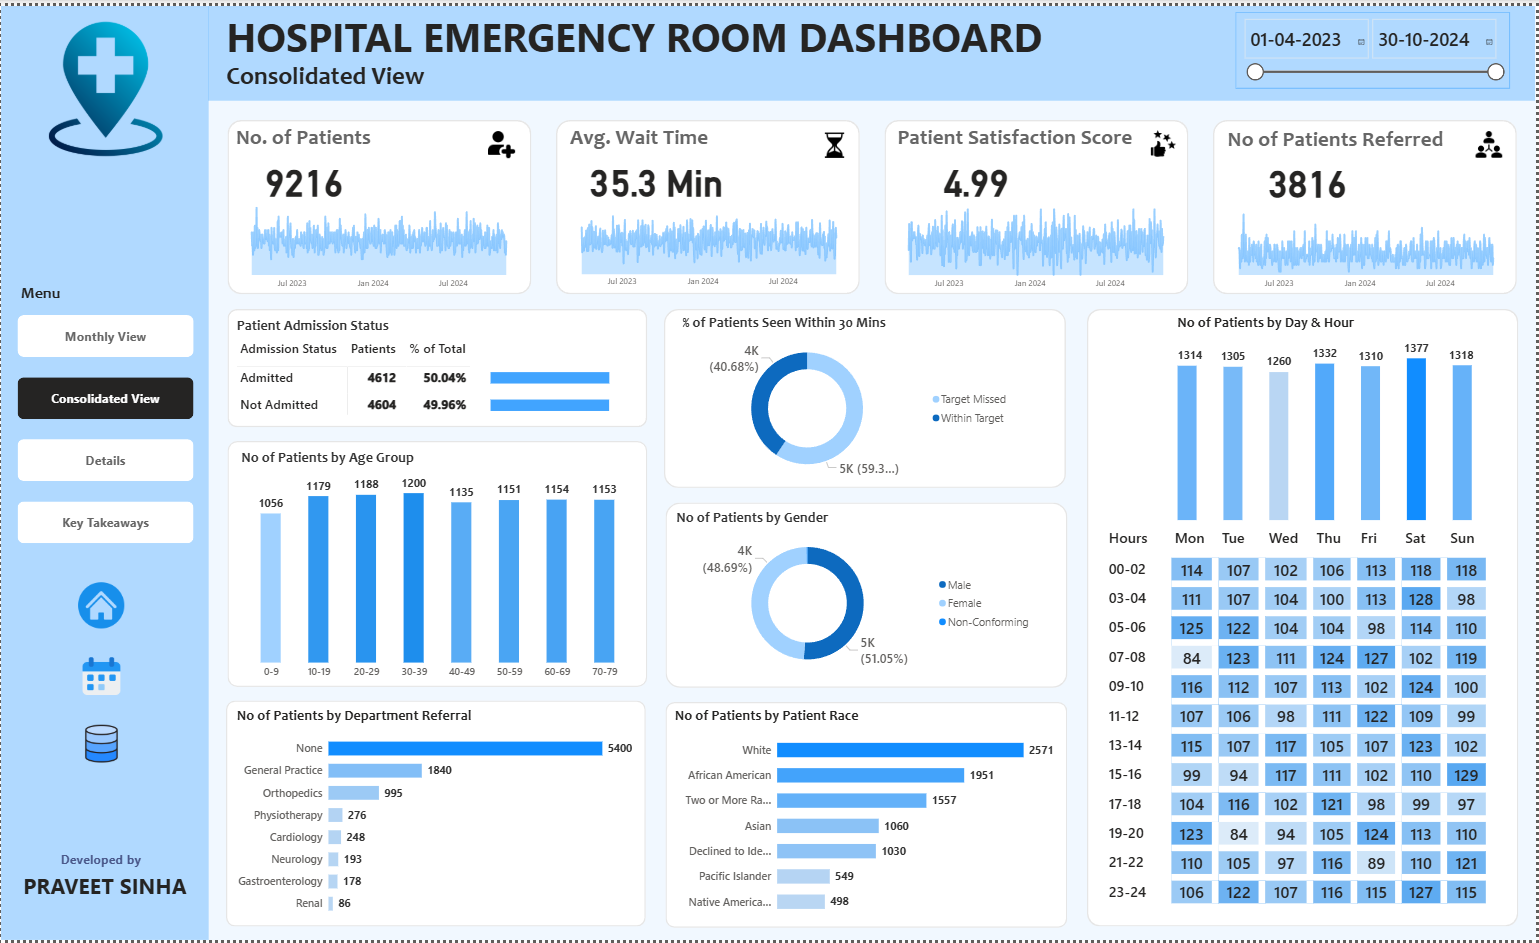

Layout of this report page (visuals, bound fields, positions):
{"tool":"powerbi","page":{"name":"Consolidated View","canvas":[2300,1400],"ordinal":1},"visuals":[{"type":"shape","box":[338.5,171.3,455.5,261.2],"z":0},{"type":"shape","box":[1324.7,171.3,455.5,261.2],"z":1000},{"type":"shape","box":[0,0,311.3,1399.9],"z":2000},{"type":"shape","box":[831.6,171.3,455.5,261.2],"z":3000},{"type":"card","fields":{"Values":["Hospital ER_Hospital ER.No of Patients"]},"box":[374,225.7,160.9,66.9],"z":4000},{"type":"card","fields":{"Values":["Hospital ER_Hospital ER.Avg Wait Time"]},"box":[869.2,225.7,223.6,66.9],"z":5000},{"type":"card","fields":{"Values":["Avg(Hospital ER_Hospital ER.Patient Satisfaction Score)"]},"box":[1381.4,225.6,160.9,66.9],"z":6000},{"type":"shape","box":[1817.8,171.3,455.5,261.2],"z":7000},{"type":"card","fields":{"Values":["Hospital ER_Hospital ER.Measure"]},"box":[1876.7,227.6,160.9,66.9],"z":8000},{"type":"shape","box":[311.3,0,1989.1,142.1],"z":9000},{"type":"textbox","box":[339.2,171.3,227.8,56.5],"z":10000},{"type":"textbox","box":[841.3,171.3,231.1,56.5],"z":11000},{"type":"textbox","box":[1331.2,172,377.5,55.8],"z":12000},{"type":"textbox","box":[1828.2,173.4,344.8,56.4],"z":13000},{"type":"areaChart","fields":{"Y":["Hospital ER_Hospital ER.No of Patients"],"Category":["Calendar Table.Date.Variation.Date Hierarchy.Year","Calendar Table.Date.Variation.Date Hierarchy.Quarter","Calendar Table.Date.Variation.Date Hierarchy.Month","Calendar Table.Date.Variation.Date Hierarchy.Day"]},"box":[348.4,288.1,435.5,145.2],"z":14000},{"type":"areaChart","fields":{"Category":["Calendar Table.Date.Variation.Date Hierarchy.Year","Calendar Table.Date.Variation.Date Hierarchy.Quarter","Calendar Table.Date.Variation.Date Hierarchy.Month","Calendar Table.Date.Variation.Date Hierarchy.Day"],"Y":["Avg(Hospital ER_Hospital ER.Patient Waittime)"]},"box":[842.1,285.9,435.5,145.2],"z":15000},{"type":"areaChart","fields":{"Category":["Calendar Table.Date.Variation.Date Hierarchy.Year","Calendar Table.Date.Variation.Date Hierarchy.Quarter","Calendar Table.Date.Variation.Date Hierarchy.Month","Calendar Table.Date.Variation.Date Hierarchy.Day"],"Y":["Avg(Hospital ER_Hospital ER.Patient Satisfaction Score)"]},"box":[1333.4,290.4,435.5,142.9],"z":16000},{"type":"areaChart","fields":{"Category":["Calendar Table.Date.Variation.Date Hierarchy.Year","Calendar Table.Date.Variation.Date Hierarchy.Quarter","Calendar Table.Date.Variation.Date Hierarchy.Month","Calendar Table.Date.Variation.Date Hierarchy.Day"],"Y":["Hospital ER_Hospital ER.Measure"]},"box":[1827.1,288.1,435.5,145.2],"z":17000},{"type":"textbox","box":[332.2,0,1294.5,90],"z":18000},{"type":"image","box":[46.9,17.9,218.9,212.2],"z":19000},{"type":"image","box":[1222.3,183.9,52.2,48.1],"z":20000},{"type":"image","box":[724.8,183.1,52.8,51.2],"z":21000},{"type":"image","box":[2198,181.8,62.7,50],"z":22000},{"type":"image","box":[1713.3,179.7,58.5,52.2],"z":23000},{"type":"shape","box":[338.9,455,629.1,177.3],"z":24000},{"type":"shape","box":[994.7,455,602.5,268.3],"z":25000},{"type":"shape","box":[1626.9,455,646.4,925.6],"z":26000},{"type":"shape","box":[996.2,743.7,602.5,277.7],"z":27000},{"type":"donutChart","title":"% of Patients Seen Within 30 Mins","fields":{"Y":["Hospital ER_Hospital ER.No of Patients"],"Category":["Hospital ER_Hospital ER.Waittime Status"]},"box":[1016.6,461,504.4,257.6],"z":28000},{"type":"donutChart","title":"No of Patients by Gender","fields":{"Y":["Hospital ER_Hospital ER.No of Patients"],"Category":["Hospital ER_Hospital ER.Full Gender"]},"box":[1007.2,753.1,547.5,257.3],"z":29000},{"type":"shape","box":[338.9,652.7,629.1,368.7],"z":30000},{"type":"pivotTable","title":"Patient Admission Status","fields":{"Rows":["Hospital ER_Hospital ER.Admission Status"],"Values":["Hospital ER_Hospital ER.No of Patients1","Hospital ER_Hospital ER.No of Patients"]},"box":[347.9,465.5,610,158.3],"z":31000},{"type":"barChart","fields":{"Category":["Hospital ER_Hospital ER.Admission Status"],"Y":["Hospital ER_Hospital ER.No of Patients"]},"box":[729.5,514.6,241.6,120.8],"z":32000},{"type":"clusteredColumnChart","fields":{"Category":["Hospital ER_Hospital ER.Age Group"],"Y":["Hospital ER_Hospital ER.No of Patients"]},"box":[354.6,662.7,599.3,354.6],"z":33000},{"type":"shape","box":[337.3,1041.7,629.1,338.9],"z":34000},{"type":"clusteredBarChart","fields":{"Category":["Hospital ER_Hospital ER.Department Referral"],"Y":["Hospital ER_Hospital ER.No of Patients"]},"box":[348.3,1049.6,602.5,324.8],"z":35000},{"type":"shape","box":[996.5,1043,602.2,338.4],"z":36000},{"type":"clusteredBarChart","fields":{"Y":["Hospital ER_Hospital ER.No of Patients"],"Category":["Hospital ER_Hospital ER.Patient Race"]},"box":[1005.8,1049.2,578.9,324.4],"z":37000},{"type":"pivotTable","fields":{"Columns":["Calendar Table.Day Name"],"Rows":["Hospital ER_Hospital ER.Waittime Interval"],"Values":["Hospital ER_Hospital ER.No of Patients"]},"box":[1649.3,776.3,599.2,583.1],"z":38000},{"type":"clusteredColumnChart","title":"No of Patients by Day & Hour","fields":{"Category":["Calendar Table.Day Name"],"Y":["Hospital ER_Hospital ER.No of Patients"]},"box":[1758.7,461.3,453.4,315.3],"z":39000},{"type":"textbox","box":[333.7,76.1,411.3,59],"z":40000},{"type":"pageNavigator","box":[24.2,462.3,264.1,343.1],"z":41000},{"type":"textbox","box":[24.2,409.1,99.9,48.3],"z":42000},{"type":"textbox","box":[77.3,1261.1,146.6,37],"z":43000},{"type":"textbox","box":[25.8,1290.1,262.5,62.8],"z":44000},{"type":"textbox","box":[29,1336.8,257.7,45.1],"z":45000},{"type":"image","box":[110.1,854.1,79.5,87.7],"z":46000},{"type":"image","box":[116.2,966.2,67.3,75.4],"z":47000},{"type":"image","box":[116.2,1068.1,67.3,75.4],"z":48000},{"type":"slicer","fields":{"Values":["Calendar Table.Date"]},"box":[1851.2,8.4,411.6,114.9],"z":50000}]}

Visuals, with their boxes in screenshot pixels (x1, y1, x2, y2), scaled from the page's 2300x1400 canvas onto the 1539x943 screenshot:
shape: BBox(227, 115, 531, 291)
shape: BBox(886, 115, 1191, 291)
shape: BBox(0, 0, 208, 942)
shape: BBox(556, 115, 861, 291)
card - Hospital ER_Hospital ER.No of Patients: BBox(250, 152, 358, 197)
card - Hospital ER_Hospital ER.Avg Wait Time: BBox(582, 152, 731, 197)
card - Avg(Hospital ER_Hospital ER.Patient Satisfaction Score): BBox(924, 152, 1032, 197)
shape: BBox(1216, 115, 1521, 291)
card - Hospital ER_Hospital ER.Measure: BBox(1256, 153, 1363, 198)
shape: BBox(208, 0, 1538, 96)
textbox: BBox(227, 115, 379, 153)
textbox: BBox(563, 115, 718, 153)
textbox: BBox(891, 116, 1143, 153)
textbox: BBox(1223, 117, 1454, 155)
areaChart - Hospital ER_Hospital ER.No of Patients x Calendar Table.Date.Variation.Date Hierarchy.Year: BBox(233, 194, 525, 292)
areaChart - Calendar Table.Date.Variation.Date Hierarchy.Year x Calendar Table.Date.Variation.Date Hierarchy.Quarter: BBox(563, 193, 855, 290)
areaChart - Calendar Table.Date.Variation.Date Hierarchy.Year x Calendar Table.Date.Variation.Date Hierarchy.Quarter: BBox(892, 196, 1184, 292)
areaChart - Calendar Table.Date.Variation.Date Hierarchy.Year x Calendar Table.Date.Variation.Date Hierarchy.Quarter: BBox(1223, 194, 1514, 292)
textbox: BBox(222, 0, 1088, 61)
image: BBox(31, 12, 178, 155)
image: BBox(818, 124, 853, 156)
image: BBox(485, 123, 520, 158)
image: BBox(1471, 122, 1513, 156)
image: BBox(1146, 121, 1186, 156)
shape: BBox(227, 306, 648, 426)
shape: BBox(666, 306, 1069, 487)
shape: BBox(1089, 306, 1521, 930)
shape: BBox(667, 501, 1070, 688)
"% of Patients Seen Within 30 Mins" donutChart: BBox(680, 311, 1018, 484)
"No of Patients by Gender" donutChart: BBox(674, 507, 1040, 681)
shape: BBox(227, 440, 648, 688)
"Patient Admission Status" pivotTable: BBox(233, 314, 641, 420)
barChart - Hospital ER_Hospital ER.Admission Status x Hospital ER_Hospital ER.No of Patients: BBox(488, 347, 650, 428)
clusteredColumnChart - Hospital ER_Hospital ER.Age Group x Hospital ER_Hospital ER.No of Patients: BBox(237, 446, 638, 685)
shape: BBox(226, 702, 647, 930)
clusteredBarChart - Hospital ER_Hospital ER.Department Referral x Hospital ER_Hospital ER.No of Patients: BBox(233, 707, 636, 926)
shape: BBox(667, 703, 1070, 930)
clusteredBarChart - Hospital ER_Hospital ER.No of Patients x Hospital ER_Hospital ER.Patient Race: BBox(673, 707, 1060, 925)
pivotTable - Calendar Table.Day Name x Hospital ER_Hospital ER.Waittime Interval: BBox(1104, 523, 1505, 916)
"No of Patients by Day & Hour" clusteredColumnChart: BBox(1177, 311, 1480, 523)
textbox: BBox(223, 51, 499, 91)
pageNavigator: BBox(16, 311, 193, 542)
textbox: BBox(16, 276, 83, 308)
textbox: BBox(52, 849, 150, 874)
textbox: BBox(17, 869, 193, 911)
textbox: BBox(19, 900, 192, 931)
image: BBox(74, 575, 127, 634)
image: BBox(78, 651, 123, 702)
image: BBox(78, 719, 123, 770)
slicer - Calendar Table.Date: BBox(1239, 6, 1514, 83)
